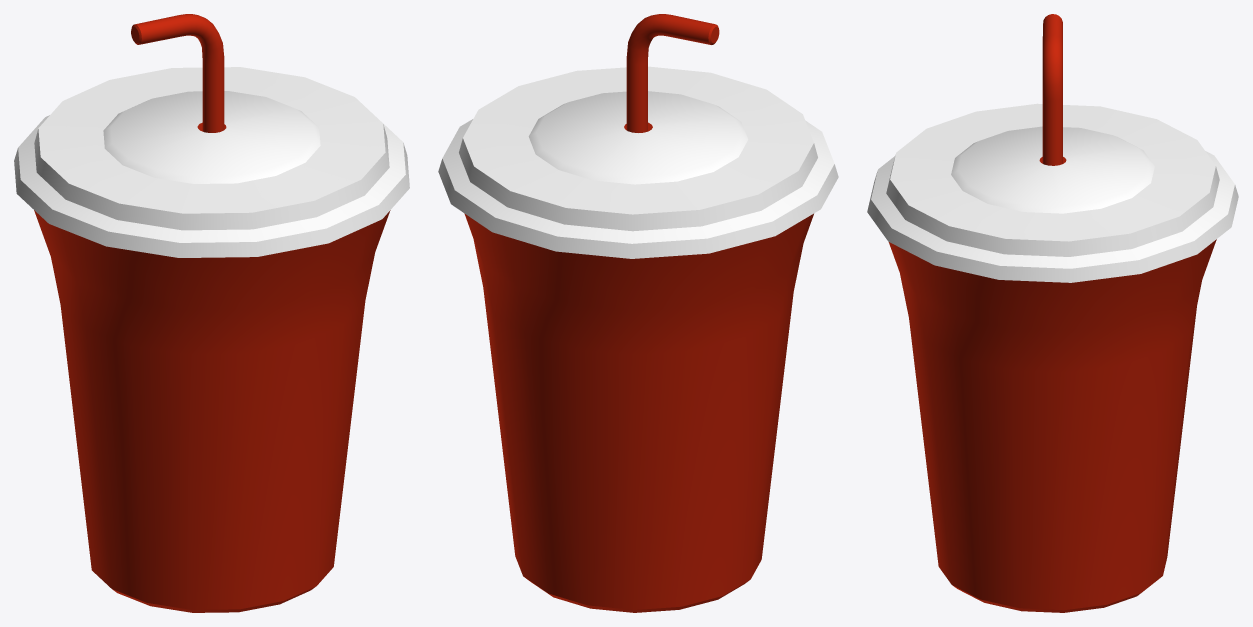
The model's file is coke.glb.
3 renders of one model, left to right at view 1: azimuth 30°, elevation 25°; view 2: azimuth 150°, elevation 25°; view 3: azimuth 270°, elevation 25°, orthographic. The views are drawn at different scales.
Visible parts, largest first — view 1: drink; view 2: drink; view 3: drink.
Boxes of the visible parts, x1,y1,x2,y2 form: drink: [14, 14, 409, 612]; drink: [438, 14, 838, 612]; drink: [867, 14, 1238, 612].
Bounding box in the file's own units: 0.1354 × 0.2086 × 0.1354.
1 material, 1 textured.
